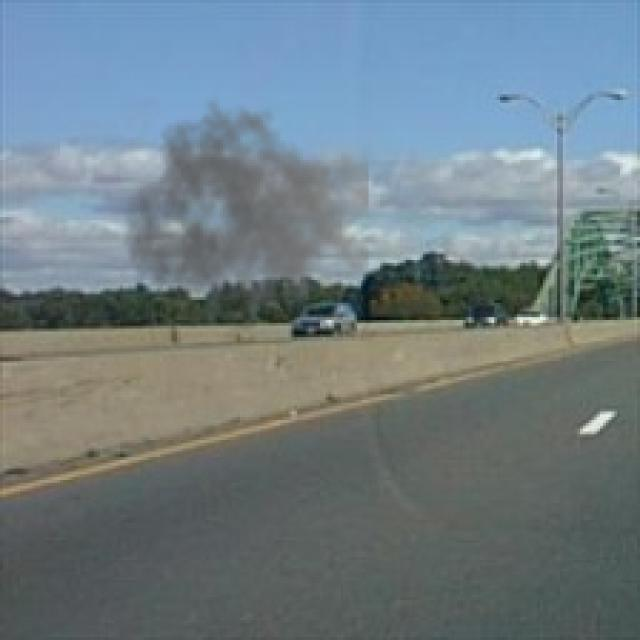smoke: (123, 97, 368, 340)
